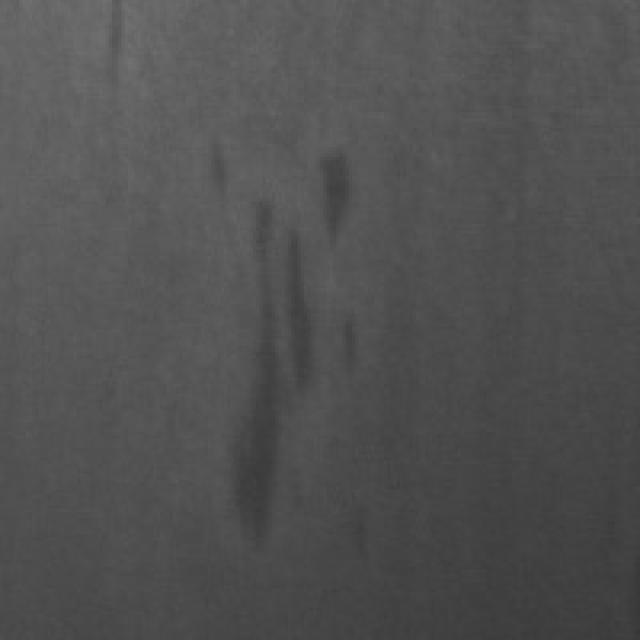inclusion: (215, 134, 372, 550), (304, 125, 362, 253), (96, 0, 131, 77)
